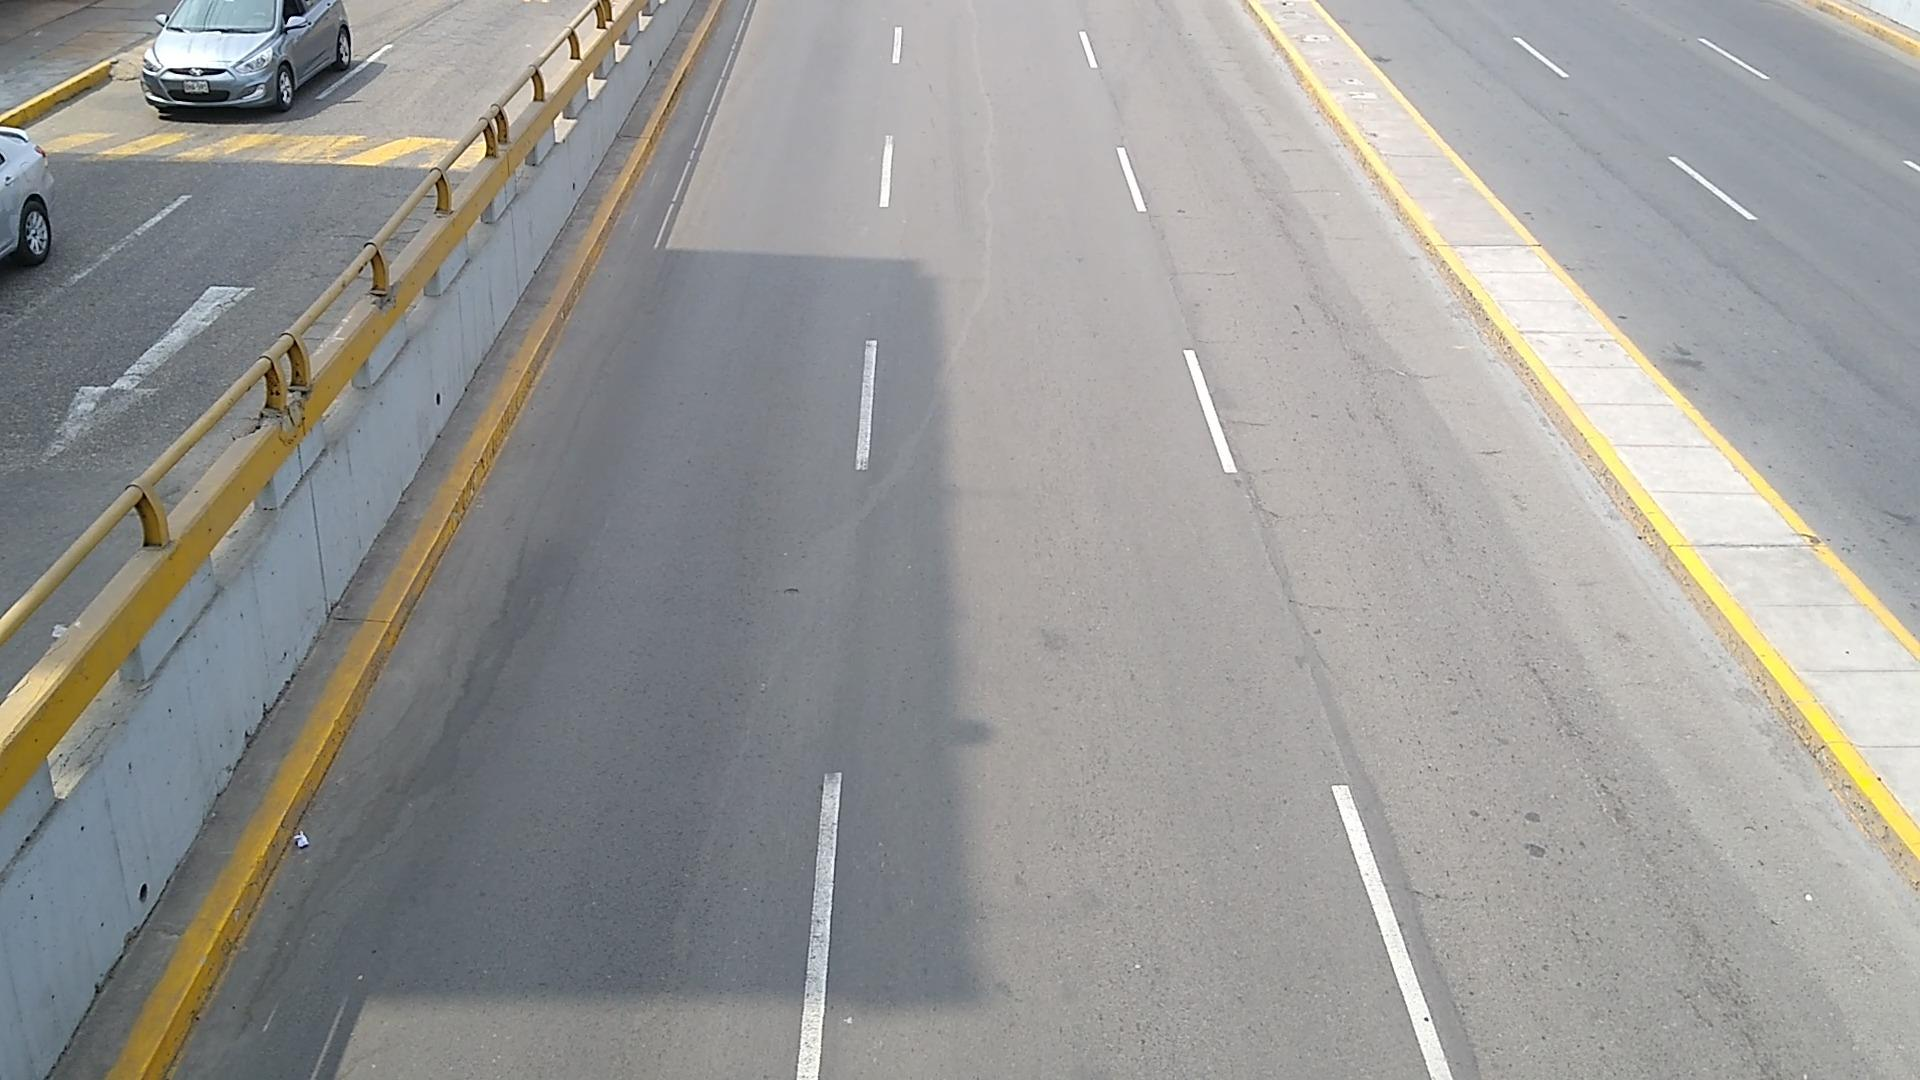car: (142, 0, 352, 116), (0, 128, 53, 266)
